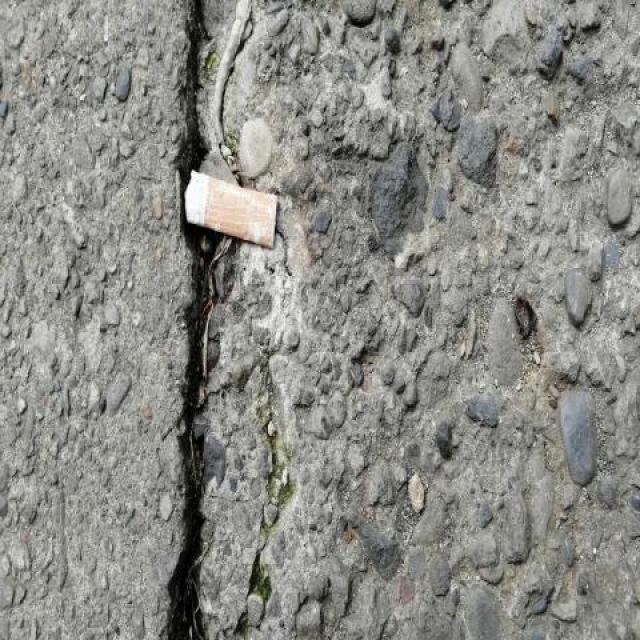non-organic waste: (171, 158, 289, 259)
